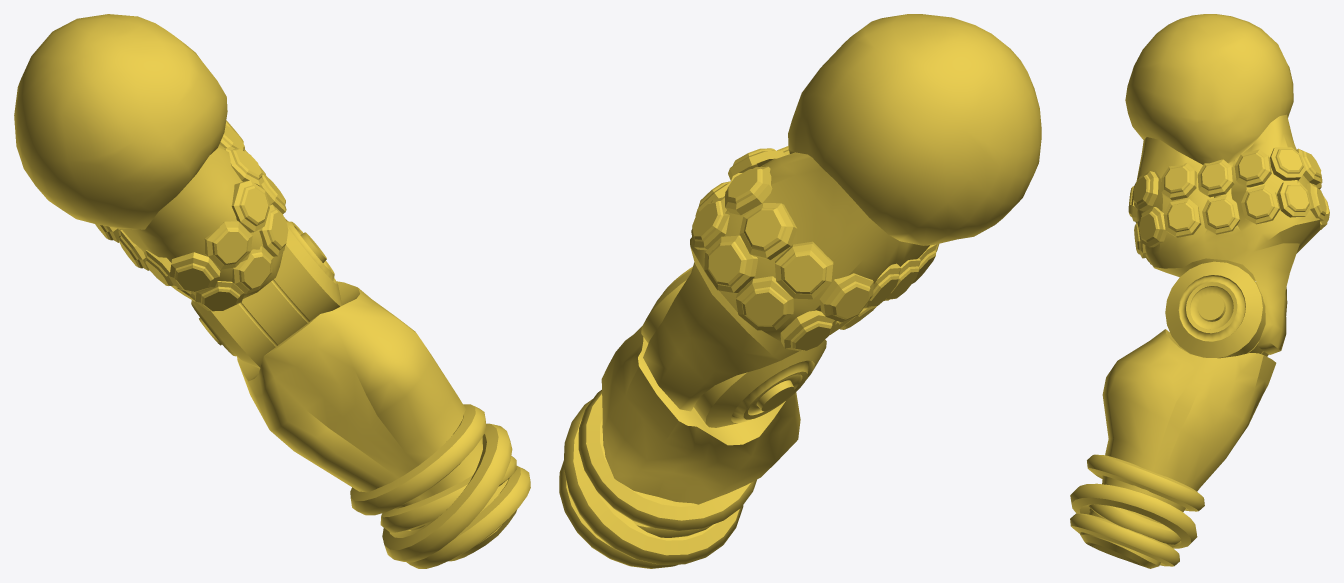
File: armL.fbx
The picture shows the model from 3 angles, left to right: view 1: azimuth 30°, elevation 25°; view 2: azimuth 150°, elevation 25°; view 3: azimuth 270°, elevation 25°; orthographic projection. The views are drawn at different scales.
Visible parts, largest first — view 1: matte_0.001, matte_1.002, metalic_1, metalic_0, submetalic_0; view 2: matte_0.001, metalic_0, matte_1.002, metalic_1, submetalic_0; view 3: matte_0.001, matte_1.002, metalic_0, metalic_1, submetalic_0.
Part boxes in pixels (bbox=[...]): matte_0.001: bbox=[14, 14, 283, 298]; matte_1.002: bbox=[237, 281, 517, 561]; metalic_1: bbox=[350, 404, 530, 568]; metalic_0: bbox=[95, 120, 288, 311]; submetalic_0: bbox=[191, 219, 342, 368]; matte_0.001: bbox=[643, 14, 1041, 411]; metalic_0: bbox=[691, 146, 939, 351]; matte_1.002: bbox=[601, 326, 800, 504]; metalic_1: bbox=[559, 390, 756, 568]; submetalic_0: bbox=[641, 266, 826, 427]; matte_0.001: bbox=[1125, 14, 1320, 354]; matte_1.002: bbox=[1080, 329, 1276, 568]; metalic_0: bbox=[1128, 147, 1329, 264]; metalic_1: bbox=[1070, 454, 1204, 566]; submetalic_0: bbox=[1165, 261, 1268, 358].
Size of the model in its own units: 1098 by 716 by 1329.
